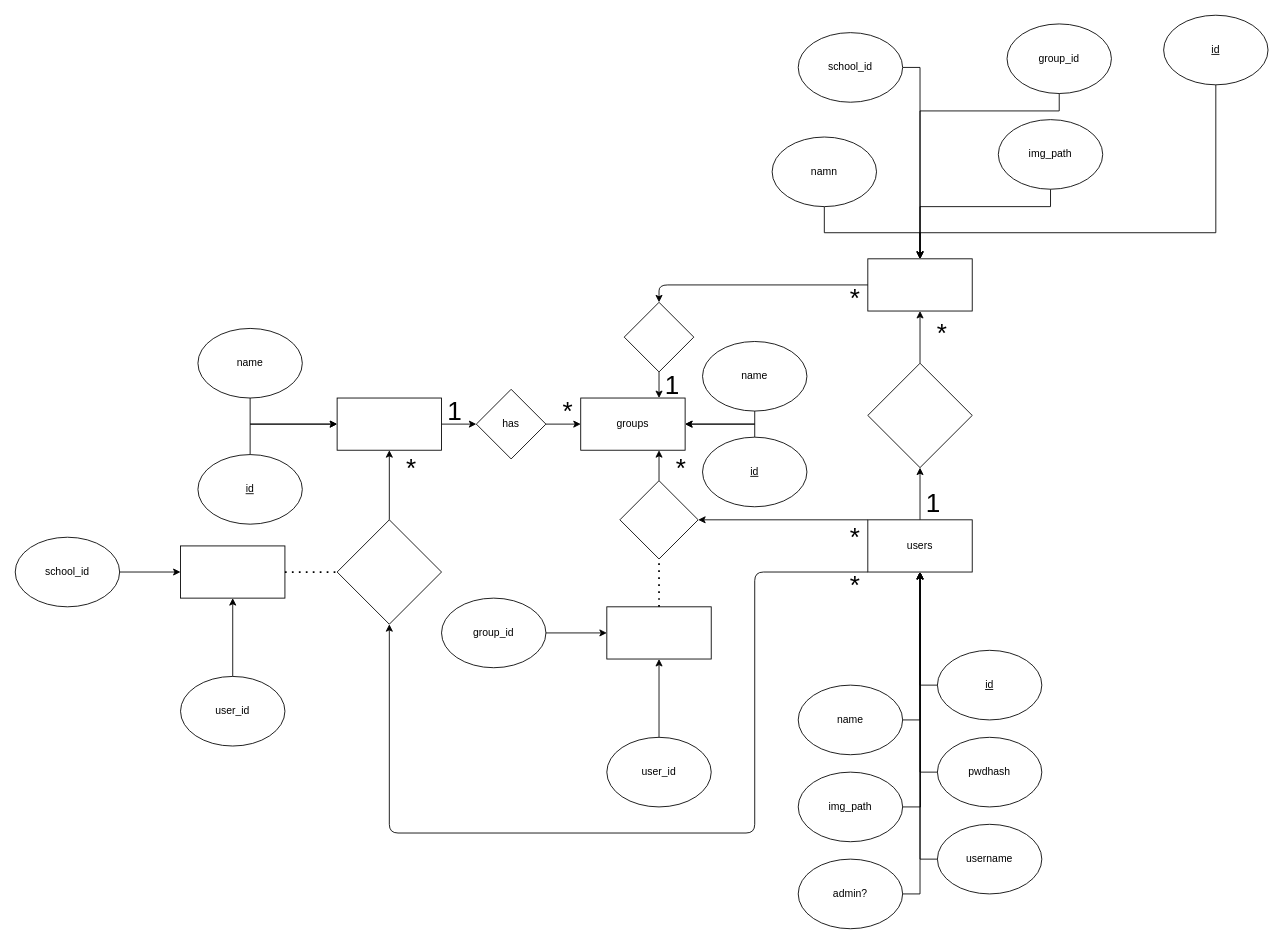
Image size: 1283x944. Some labels were removed from this diagram. Each missing label, with the box of its shape:
belongs to: (623, 301, 694, 372)
create/remove: (867, 362, 972, 468)
school: (336, 397, 442, 450)
students: (867, 258, 972, 311)
teaches: (619, 480, 698, 559)
user/group: (606, 606, 711, 659)
user/school: (180, 545, 285, 598)
works at: (336, 519, 442, 624)
